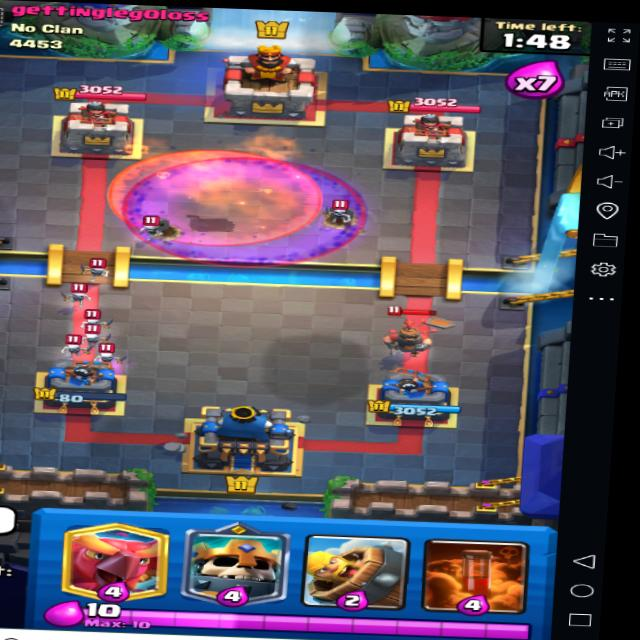graveyard: (120, 152, 372, 274)
poison: (111, 145, 331, 243)
royal-delivery: (181, 202, 244, 242)
royal-recruits: (377, 306, 445, 366)
skeleton: (89, 338, 126, 368), (80, 311, 122, 333), (134, 218, 168, 243), (62, 336, 95, 358), (60, 283, 87, 305), (81, 325, 111, 344), (325, 204, 355, 222), (79, 262, 108, 279)
